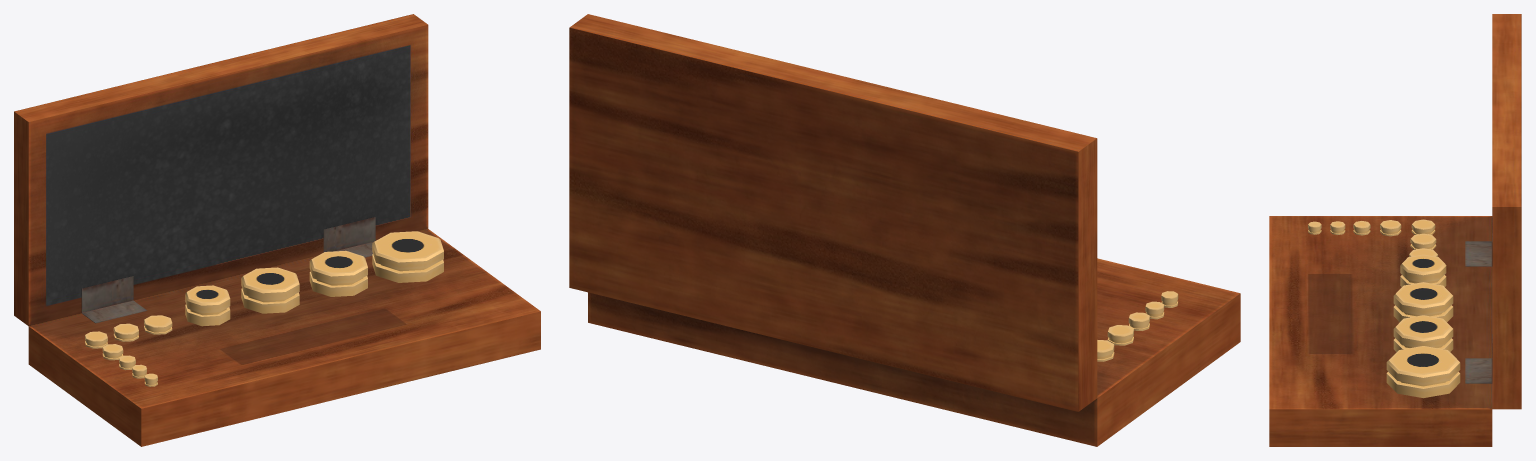
The model's file is weightbox2.fbx.
3 renders of one model, left to right at view 1: azimuth 30°, elevation 25°; view 2: azimuth 150°, elevation 25°; view 3: azimuth 270°, elevation 25°, orthographic. The views are drawn at different scales.
Visible parts, largest first — view 1: BalanceScale_WeightSetBackPanel, BalanceScale_WeightSetTray, Weight_500g, Weight_200g, Weight_100g, Weight_50g; view 2: BalanceScale_WeightSetBackPanel, BalanceScale_WeightSetTray; view 3: BalanceScale_WeightSetTray, BalanceScale_WeightSetBackPanel, Weight_500g, Weight_100g, Weight_200g, Weight_50g, Weight_10g, Weight_5g, Weight_2g.
Part boxes in pixels (<box>): BalanceScale_WeightSetBackPanel: <box>14,14,428,326</box>; BalanceScale_WeightSetTray: <box>28,229,540,446</box>; Weight_500g: <box>372,231,443,282</box>; Weight_200g: <box>309,250,367,296</box>; Weight_100g: <box>241,267,299,313</box>; Weight_50g: <box>185,285,230,326</box>; BalanceScale_WeightSetBackPanel: <box>569,14,1097,411</box>; BalanceScale_WeightSetTray: <box>588,258,1240,446</box>; BalanceScale_WeightSetTray: <box>1269,216,1492,446</box>; BalanceScale_WeightSetBackPanel: <box>1465,14,1521,409</box>; Weight_500g: <box>1386,346,1460,398</box>; Weight_100g: <box>1393,282,1453,322</box>; Weight_200g: <box>1393,315,1453,351</box>; Weight_50g: <box>1400,254,1446,286</box>; Weight_10g: <box>1410,233,1436,249</box>; Weight_5g: <box>1411,219,1435,234</box>; Weight_2g: <box>1380,220,1401,236</box>.
Bounding box in the file's own units: 27.1 × 15.71 × 14.96.
